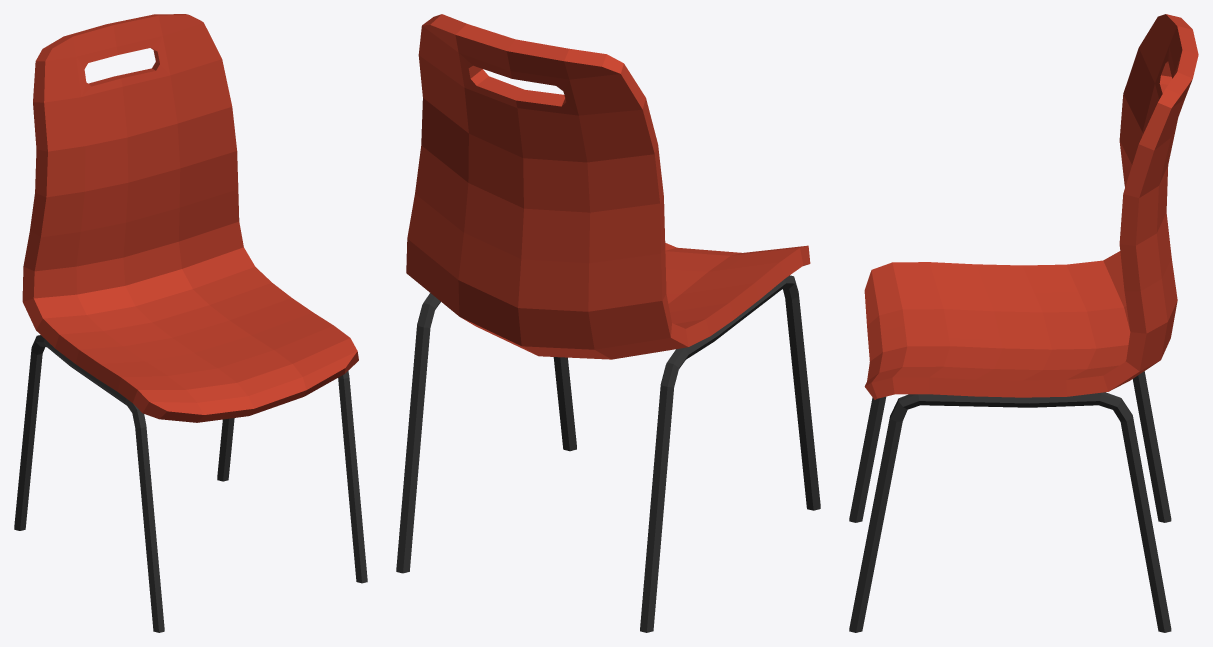
The model's file is Int_KitchenChair01_3.fbx.
3 renders of one model, left to right at view 1: azimuth 30°, elevation 25°; view 2: azimuth 150°, elevation 25°; view 3: azimuth 270°, elevation 25°, orthographic. The views are drawn at different scales.
Visible parts, largest first — view 1: Int_KitchenChair01_3; view 2: Int_KitchenChair01_3; view 3: Int_KitchenChair01_3.
Part boxes in pixels (left/top/right/bottom): Int_KitchenChair01_3: left=14, top=14, right=367, bottom=632; Int_KitchenChair01_3: left=396, top=14, right=820, bottom=632; Int_KitchenChair01_3: left=849, top=14, right=1198, bottom=632.
Size of what is drawn, in the model's own units: 67.05 by 82.31 by 137.
